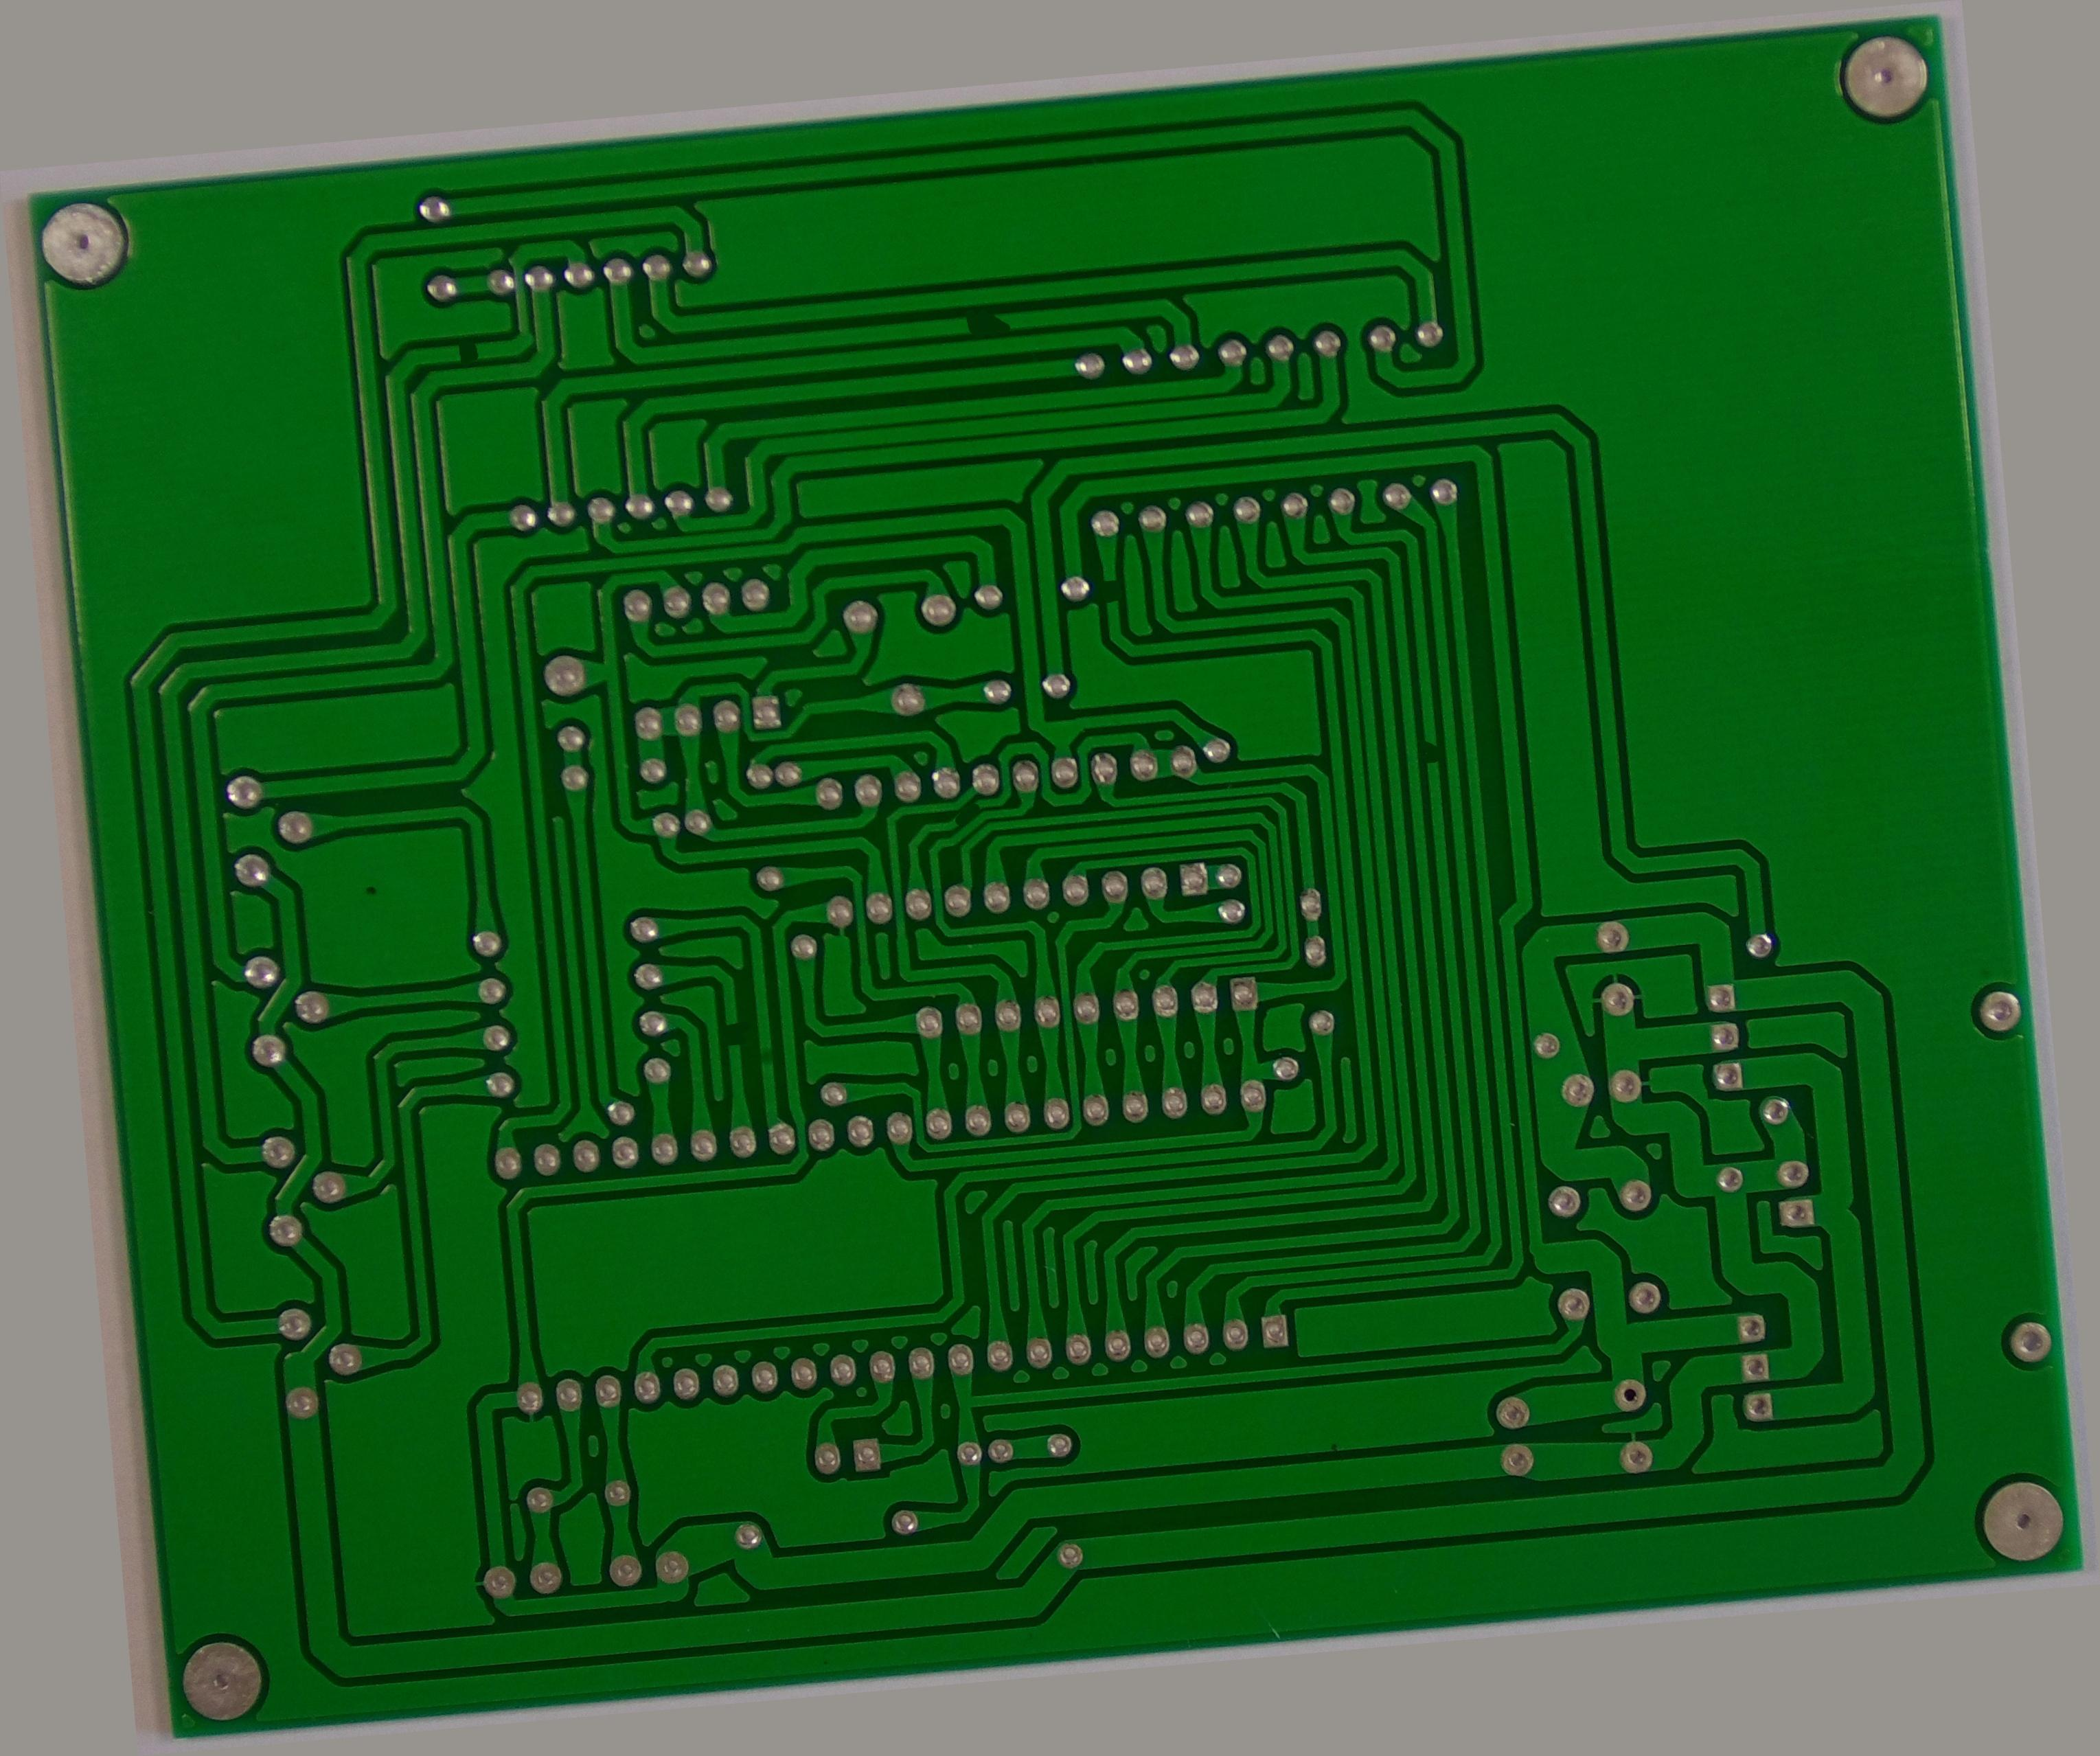open_circuit: (1001, 246, 1067, 277), (685, 999, 715, 1045), (951, 785, 989, 818), (462, 228, 499, 258), (1455, 753, 1479, 795)
